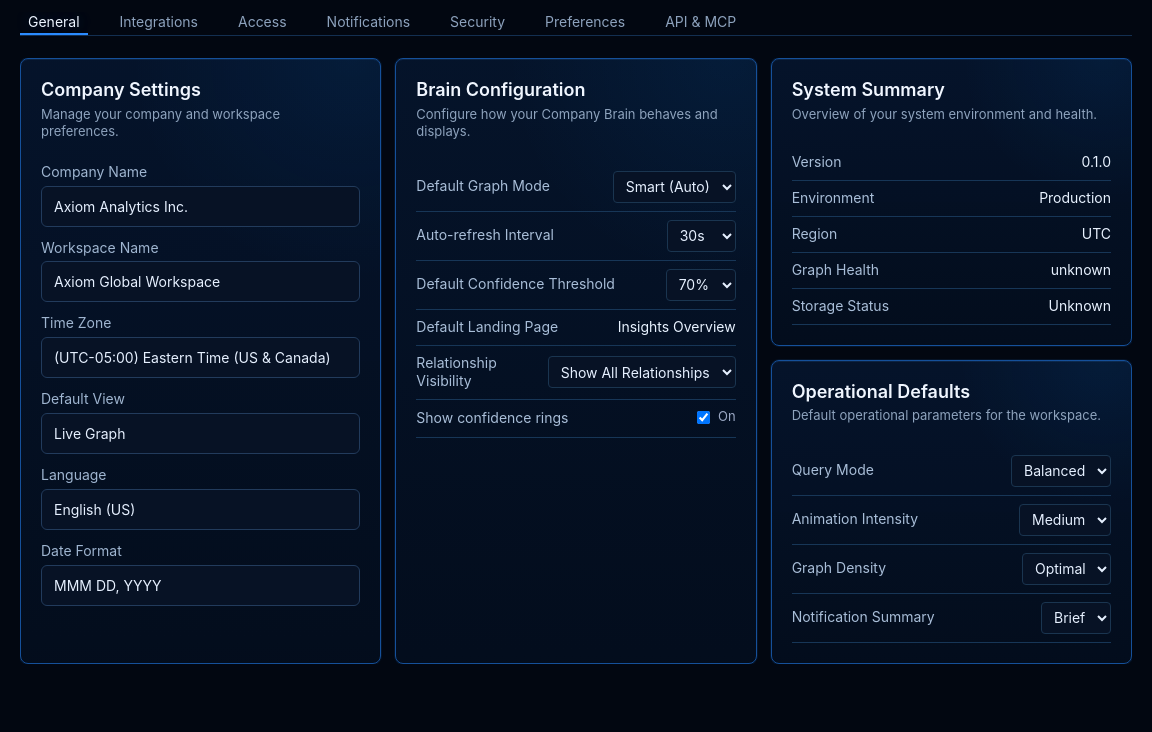
SettingsPage › sends a member invitation into persisted workspace settings
Click the button "Access".
click(262, 24)  # box [230,12,295,35]
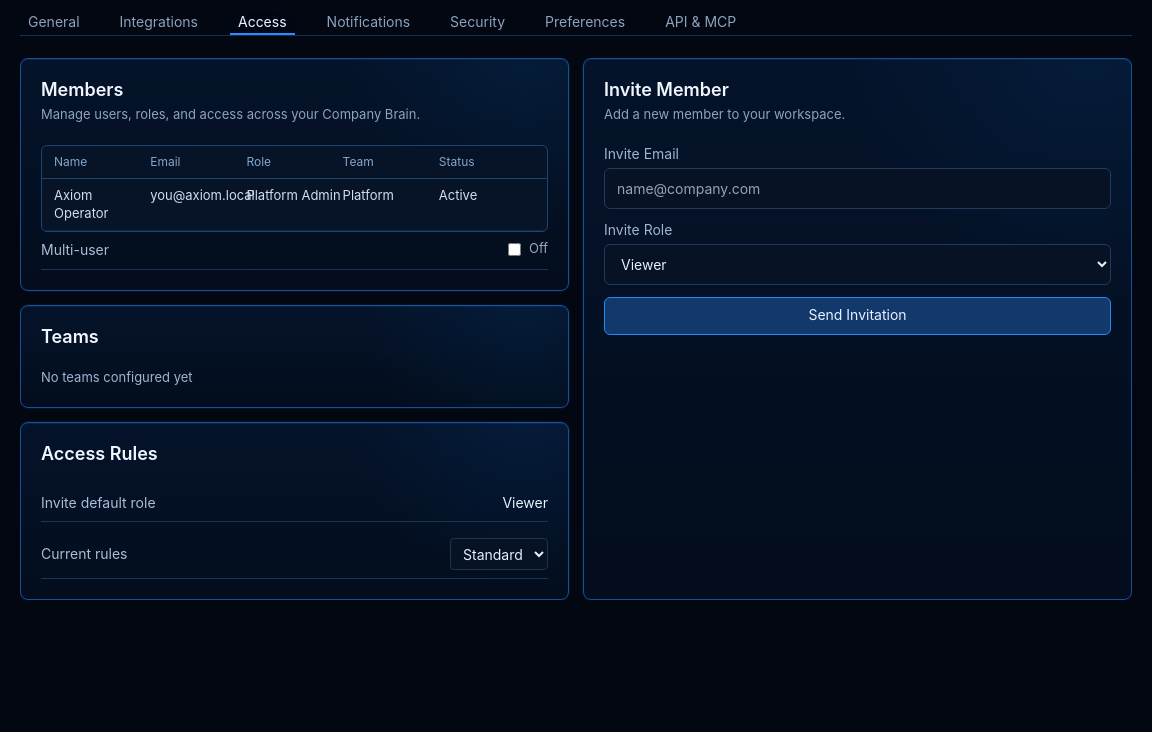
Type "teammate@example.com" into the field labelled "Invite Email".
click(858, 188); type("teammate@example.com")  # box [604,168,1111,209]
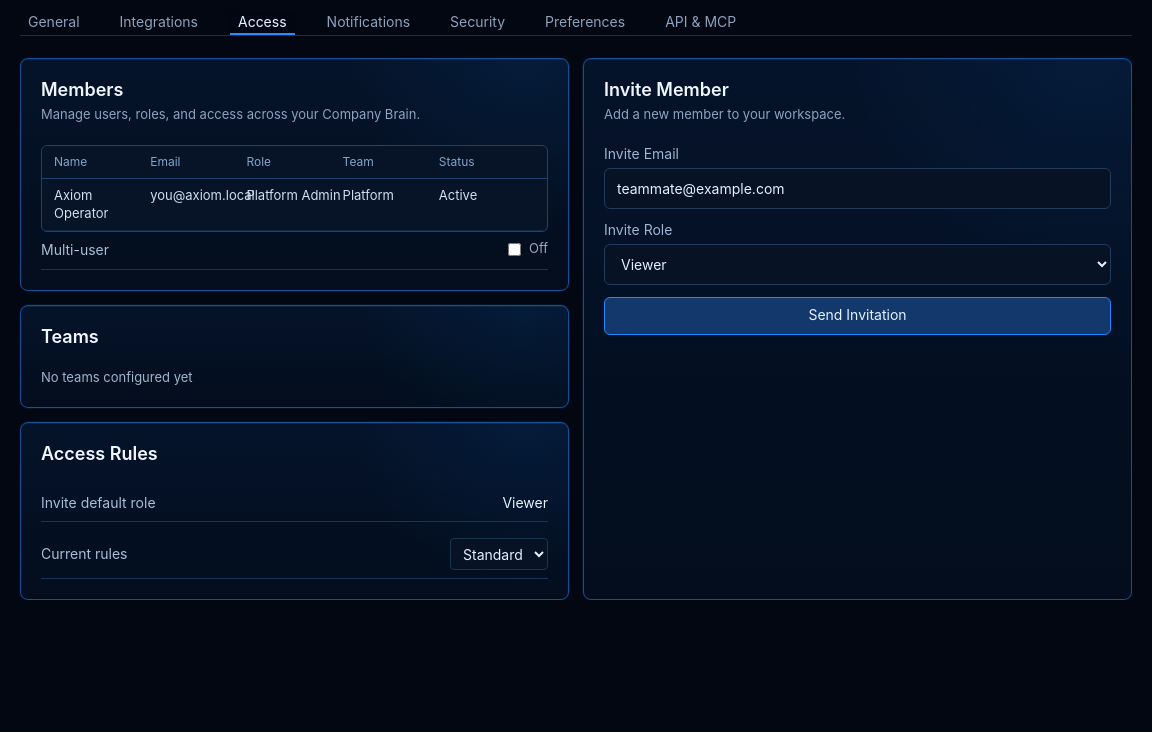
Select "Editor" in the dropdown labelled "Invite Role" at (858, 264), box [604,244,1111,285]
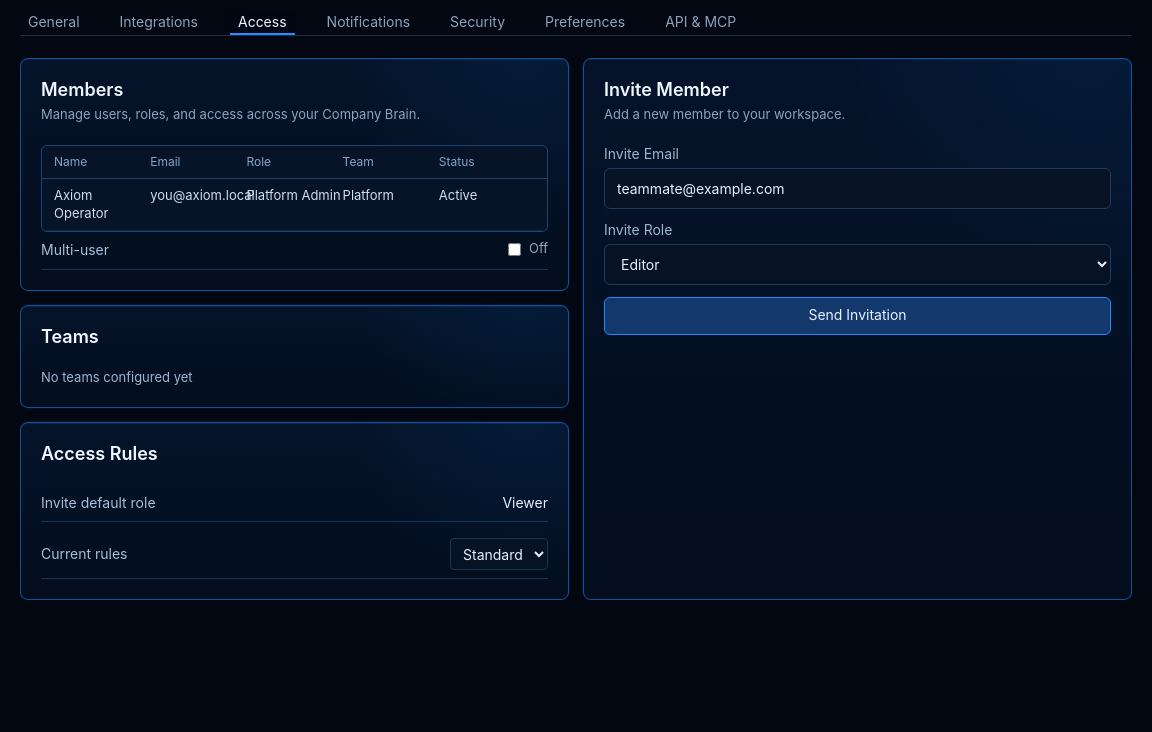
Click the button "Send Invitation".
click(858, 316)  # box [604,297,1111,335]
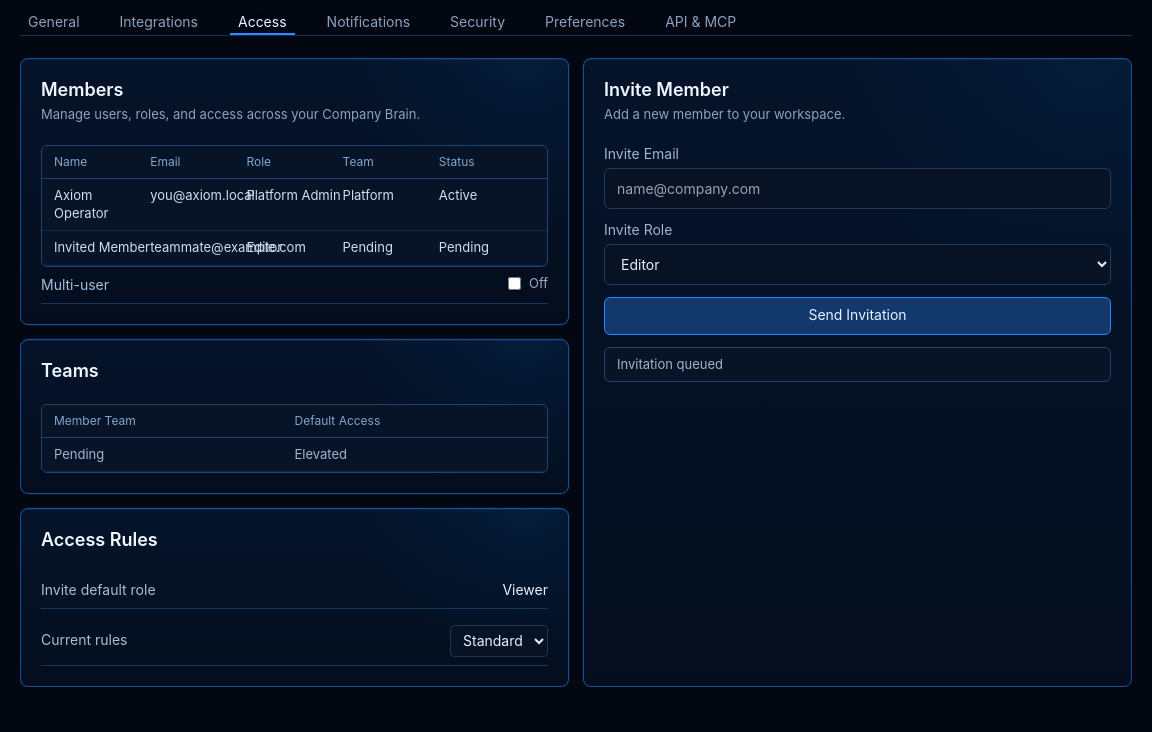
Result: the text "teammate@example.com" is shown at [150,239,246,257]
Result: the text "Invitation queued" is shown at [604,347,1111,382]
